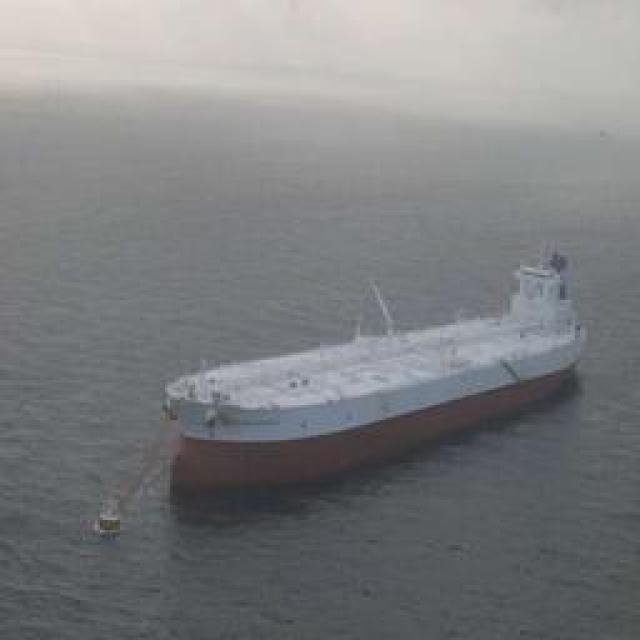Ship: (161, 250, 579, 505)
